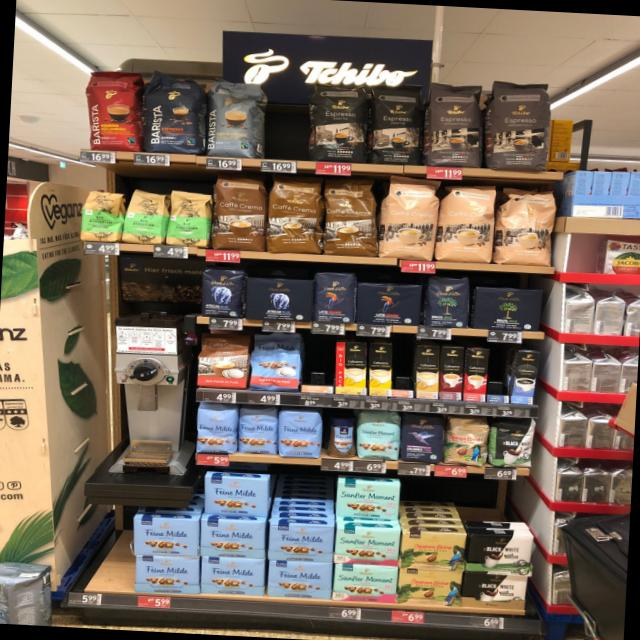AB Bohne: (198, 267, 246, 320)
AB Gemahlen: (242, 277, 314, 323)
Athiopien Bohne: (79, 186, 122, 244)
Athiopien Gemahlen: (168, 187, 212, 249), (125, 188, 167, 245)
BM Bohne: (423, 274, 472, 328)
BM Gemahlen: (473, 286, 545, 332)
BW Bohne: (492, 419, 538, 470)
BW Gemahlen: (466, 533, 534, 574), (462, 570, 528, 610)
Barista CC: (205, 74, 268, 160)
Barista Espresso: (142, 68, 206, 154)
Barista Kolumbien: (82, 68, 143, 154)
C Fino Bohne: (400, 412, 446, 463)
CC Mild: (380, 176, 440, 262), (496, 184, 558, 267), (438, 179, 497, 264)
CC Vollmundig: (195, 331, 250, 390)
CC Vollmundig 36 Pads: (265, 177, 326, 256), (322, 180, 381, 256), (212, 175, 268, 252)
Colombia BB Bohne: (445, 416, 491, 467)
Colombia BB Gemahlen: (396, 568, 464, 608), (401, 531, 466, 572)
Empty Shelf: (300, 339, 334, 387), (488, 348, 512, 396), (392, 344, 416, 391)
Espresso Aromatisch: (485, 80, 556, 170), (425, 80, 487, 168)
Espresso Kraftig: (308, 79, 372, 163), (368, 82, 428, 168)
FM 36 Pads: (250, 332, 302, 392)
FM Bohne: (278, 410, 324, 460), (195, 404, 239, 456), (238, 406, 280, 456)
FM Gemahlen: (130, 516, 200, 558), (199, 518, 267, 560), (202, 476, 270, 518), (267, 559, 334, 601), (133, 555, 201, 596), (201, 556, 266, 598), (268, 522, 335, 562)
FM Instant: (326, 415, 359, 458)
LG Bohne: (312, 271, 358, 325)
LG Gemahlen: (356, 281, 424, 327)
SM Bohne: (356, 410, 402, 462)
SM Gemahlen: (334, 526, 401, 568), (336, 480, 402, 522), (334, 564, 398, 604)
Simo CCMild: (333, 341, 368, 395)
Simo CCMild bigpack: (368, 342, 394, 398)
Simo Decaff: (416, 346, 442, 399)
Simo Es Brazil: (464, 348, 488, 403)
Simo Es Caramel: (439, 347, 465, 400)
Simo Es Vanilla: (512, 351, 540, 405)
